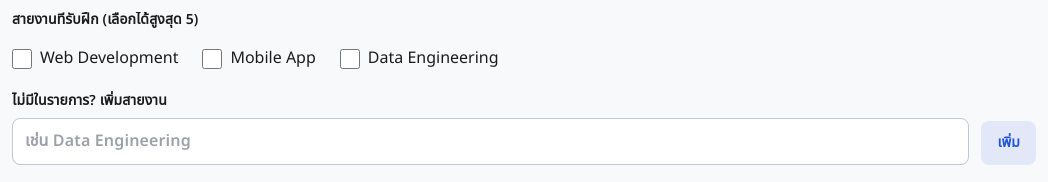
TagPicker › adds a new field of work and ticks it
Type "  DevOps   Engineer " into the field labelled "ไม่มีในรายการ? เพิ่มสายงาน". click: (491, 141)
box: [12,118,969,165]
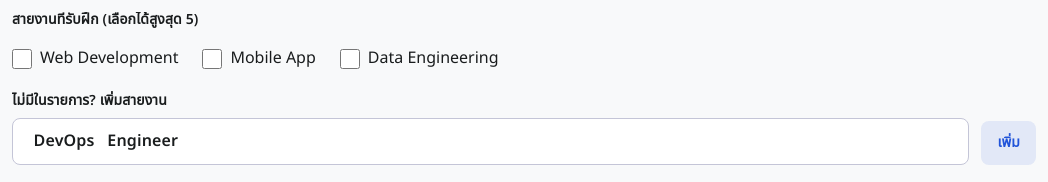
Click the button "เพิ่ม". click: (1009, 143)
box: [981,121,1036,165]
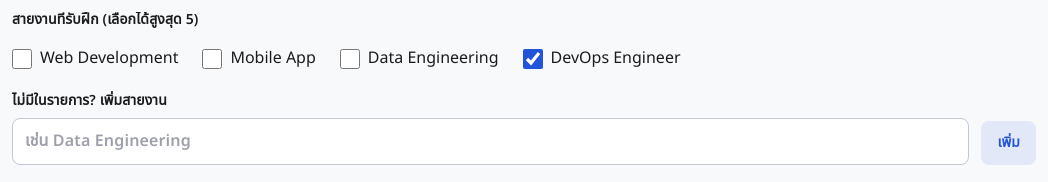
Expected: the checkbox labelled "DevOps Engineer" is checked, [522,49,542,69]
